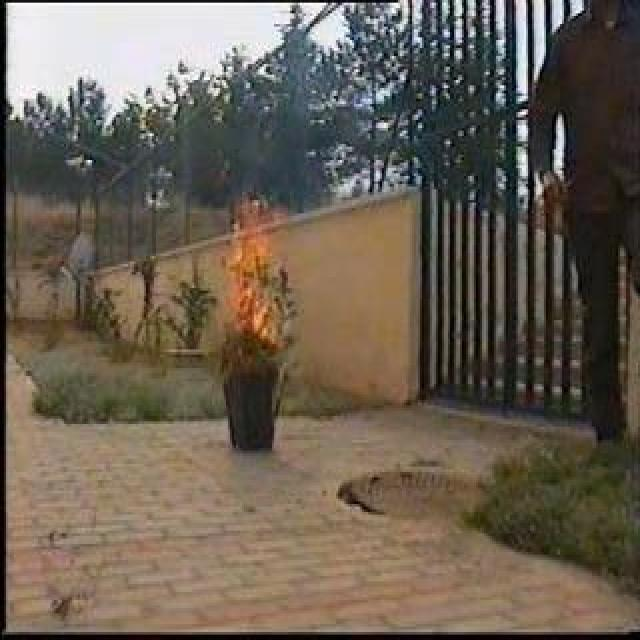fire: (226, 196, 276, 340)
